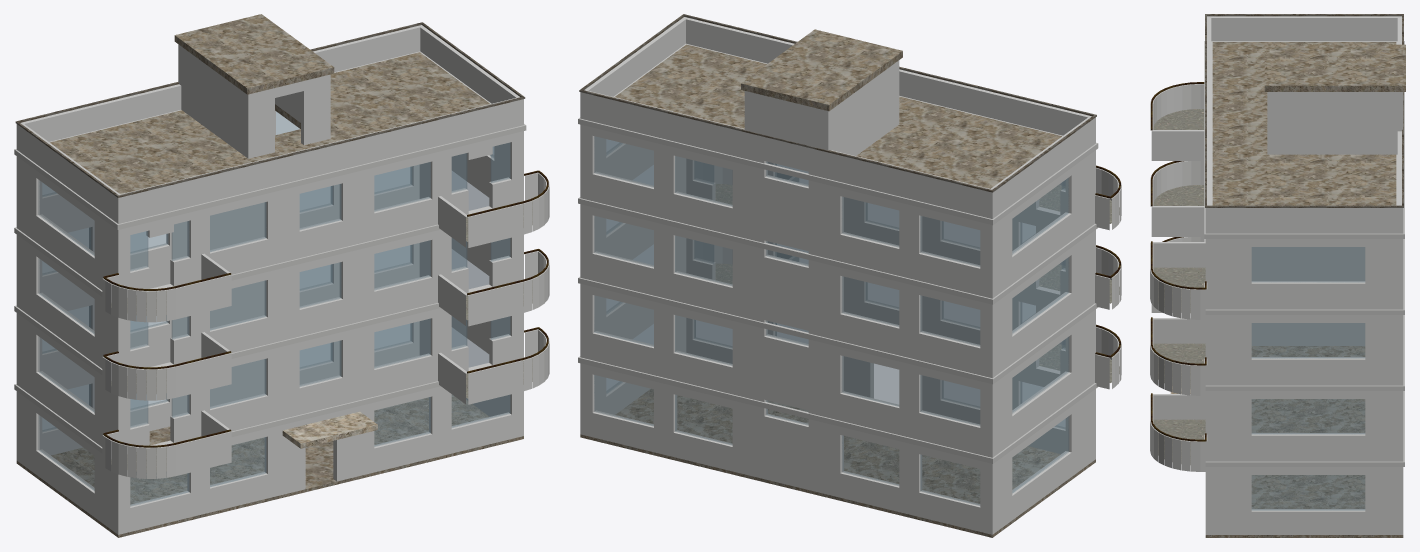
Rendered from bauhaus-block.bauhaus-v4.lod1.glb.
The picture shows the model from 3 angles, left to right: view 1: azimuth 30°, elevation 25°; view 2: azimuth 150°, elevation 25°; view 3: azimuth 270°, elevation 25°; orthographic projection. The views are drawn at different scales.
Visible parts, largest first — view 1: bauhaus-block; view 2: bauhaus-block; view 3: bauhaus-block.
Boxes of the visible parts, <box> form: bauhaus-block: <box>14,14,549,537</box>; bauhaus-block: <box>578,14,1121,537</box>; bauhaus-block: <box>1150,14,1405,537</box>.
Size of the model in its own units: 18.12 by 15.37 by 9.46.
Materials: 5 (3 with a texture image).
